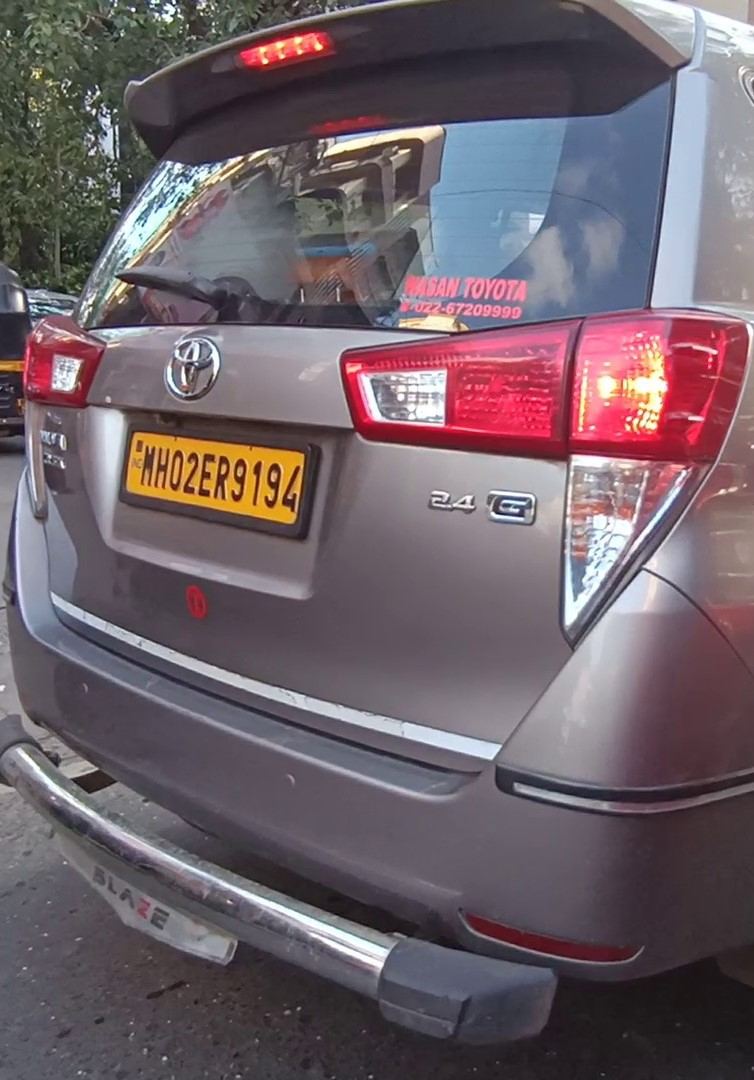MH02ER9194: (126, 426, 306, 525)
